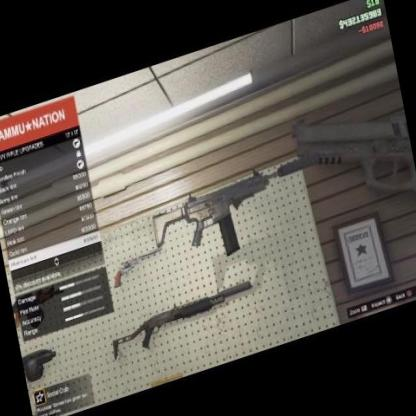rifle: (146, 165, 286, 277)
